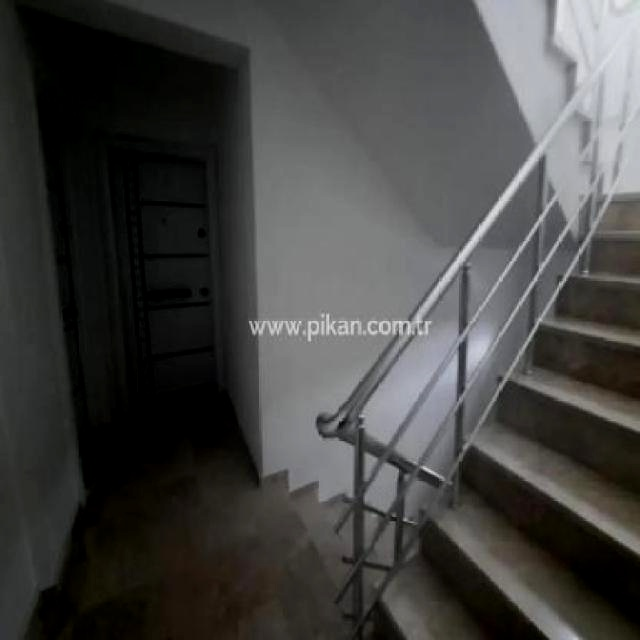stair: (348, 192, 640, 639), (511, 0, 615, 165)
